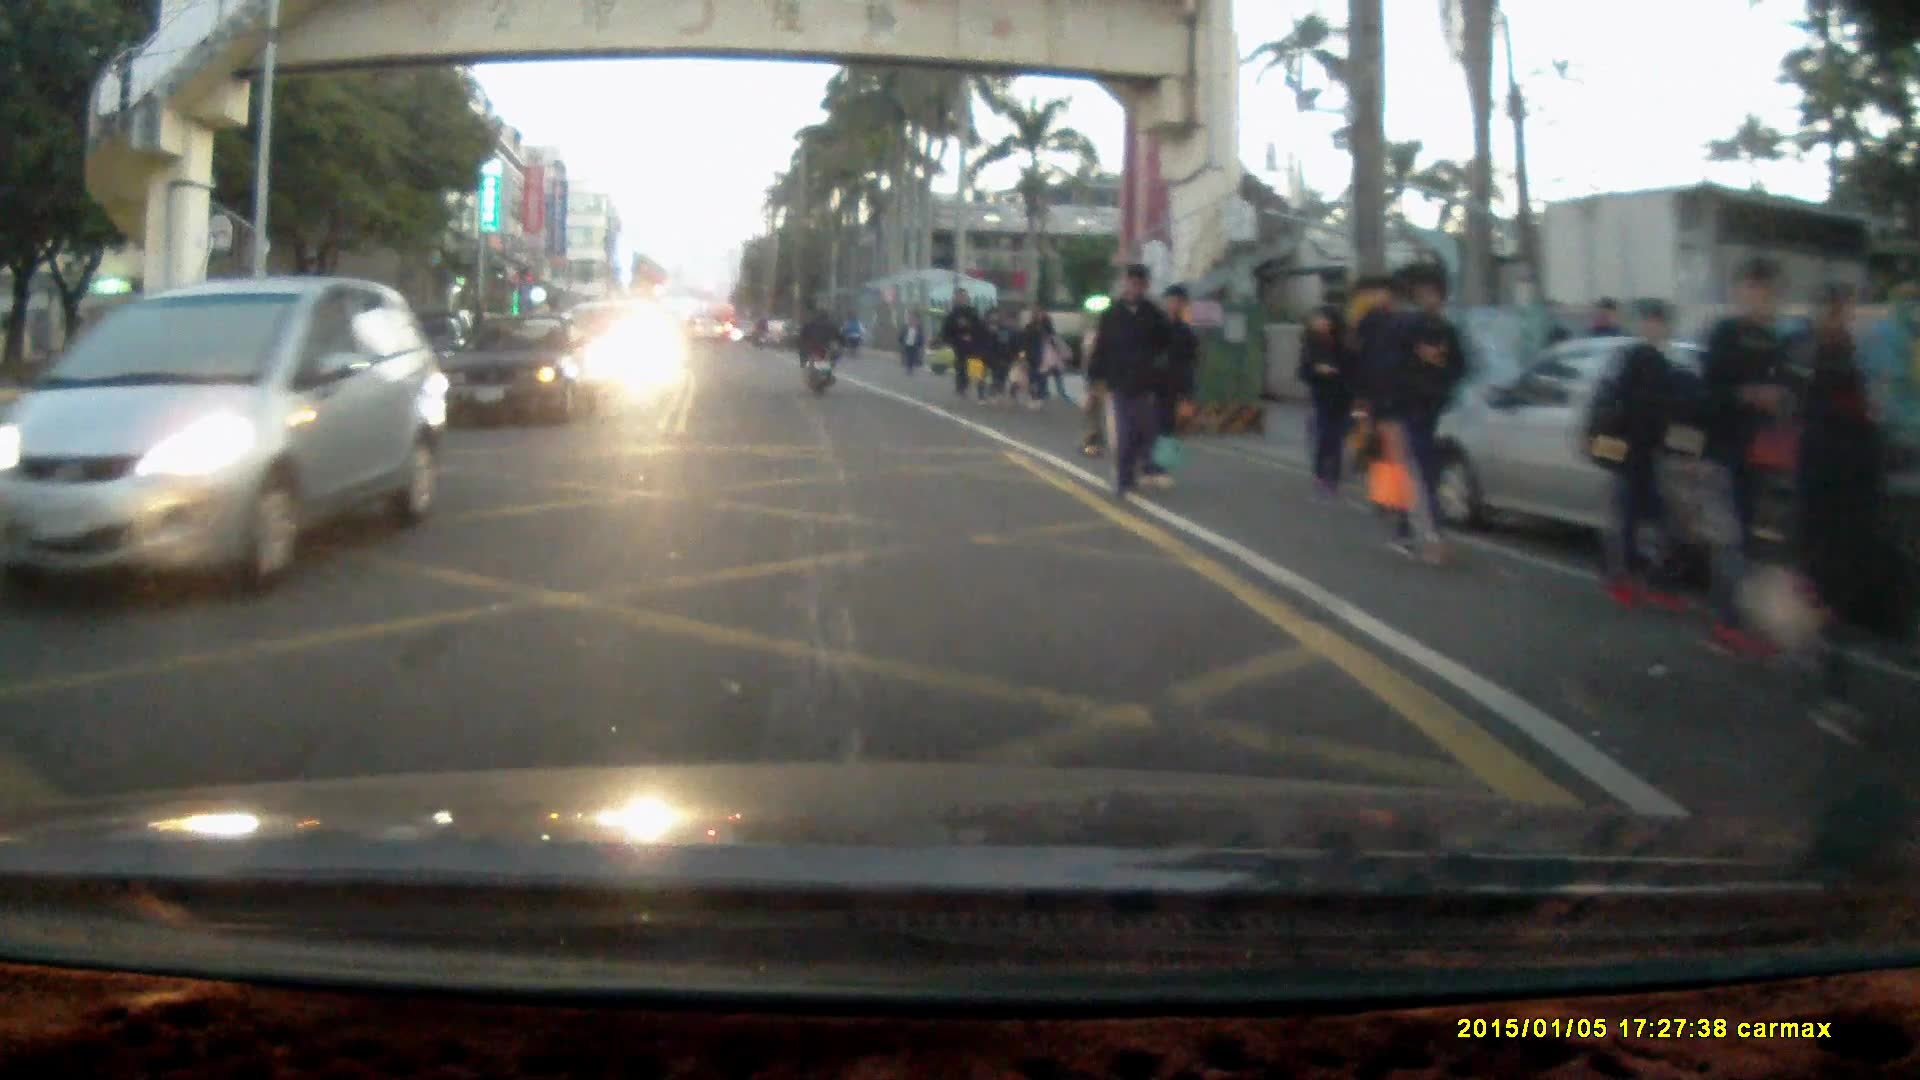pedestrian: (1693, 257, 1806, 667), (1787, 281, 1880, 745), (1599, 298, 1712, 623), (1385, 260, 1476, 567), (1084, 258, 1170, 499), (1347, 275, 1412, 513), (1138, 279, 1202, 477), (1297, 303, 1355, 504), (1020, 302, 1063, 414), (942, 283, 980, 399), (972, 300, 1012, 401), (897, 310, 924, 378)
rider: (797, 302, 840, 399)
vehicle: (1, 276, 438, 603), (1423, 327, 1855, 604), (439, 313, 601, 430)
